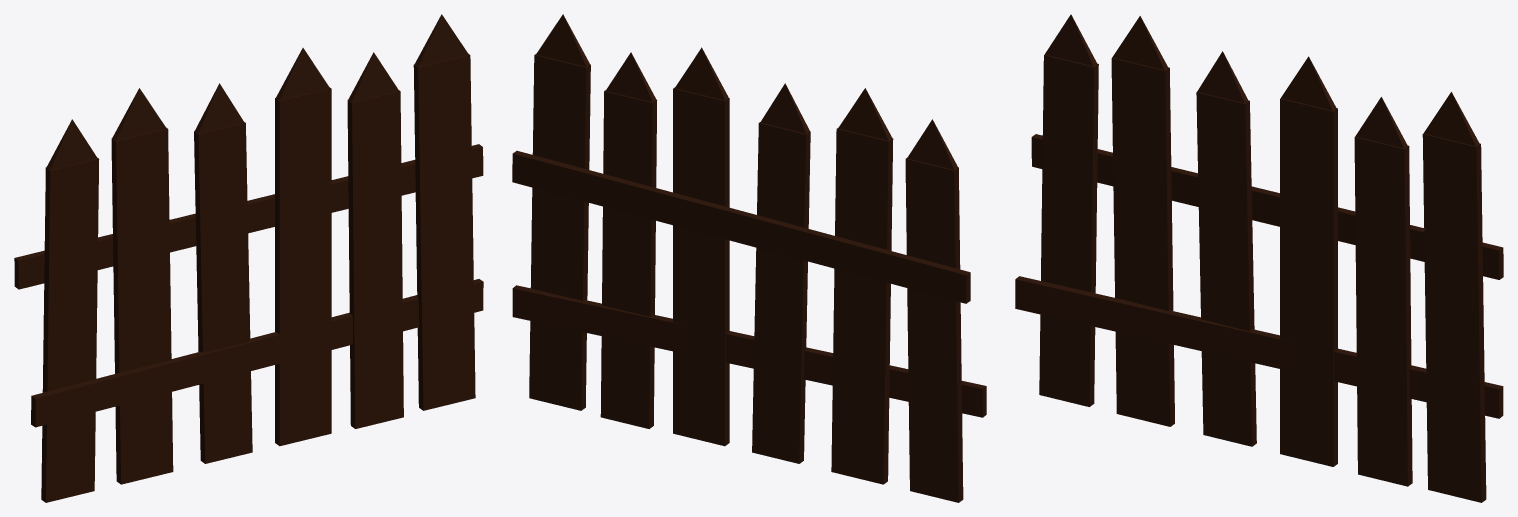
File: Cerca.fbx
The picture shows the model from 3 angles, left to right: view 1: azimuth 30°, elevation 25°; view 2: azimuth 150°, elevation 25°; view 3: azimuth 330°, elevation 25°; orthographic projection. The views are drawn at different scales.
Visible parts, largest first — view 1: Box008, Box005, Box003, Box006, Box001, Box004, Box002, Box007, Pyramid002, Pyramid006, Pyramid004, Pyramid001 (+2 smaller); view 2: Box003, Box005, Box001, Box008, Box004, Box007, Box006, Box002, Pyramid002, Pyramid004, Pyramid006, Pyramid001 (+2 smaller); view 3: Box008, Box005, Box003, Box006, Box001, Box004, Box002, Box007, Pyramid004, Pyramid006, Pyramid002, Pyramid001 (+2 smaller).
Boxes of the visible parts, box(x1,y1,x2,y2) form: Box008: box(413, 54, 475, 410); Box005: box(275, 87, 331, 446); Box003: box(111, 127, 173, 484); Box006: box(347, 90, 403, 428); Box001: box(41, 158, 99, 502); Box004: box(194, 122, 252, 463); Box002: box(31, 279, 483, 427); Box007: box(14, 144, 483, 289); Pyramid002: box(112, 88, 166, 140); Pyramid006: box(415, 14, 468, 66); Pyramid004: box(276, 48, 329, 100); Pyramid001: box(47, 119, 97, 169); Box003: box(831, 128, 893, 484); Box005: box(673, 87, 729, 446); Box001: box(905, 157, 963, 502); Box008: box(529, 54, 590, 410); Box004: box(752, 122, 810, 463); Box007: box(512, 150, 970, 303); Box006: box(600, 90, 657, 428); Box002: box(512, 285, 986, 417); Pyramid002: box(838, 88, 892, 140); Pyramid004: box(675, 47, 728, 100); Pyramid006: box(536, 14, 589, 66); Pyramid001: box(907, 119, 957, 169); Box008: box(1422, 133, 1486, 502); Box005: box(1280, 98, 1337, 466); Box003: box(1111, 57, 1174, 426); Box006: box(1354, 136, 1412, 486); Box001: box(1039, 54, 1098, 406); Box004: box(1196, 91, 1256, 446); Box002: box(1015, 276, 1503, 418); Box007: box(1031, 134, 1503, 279); Pyramid004: box(1281, 56, 1336, 110); Pyramid006: box(1424, 92, 1479, 145); Pyramid002: box(1112, 16, 1167, 69); Pyramid001: box(1045, 14, 1096, 66).
Bounding box in the file's own units: 69.07 × 56.33 × 5.36.
